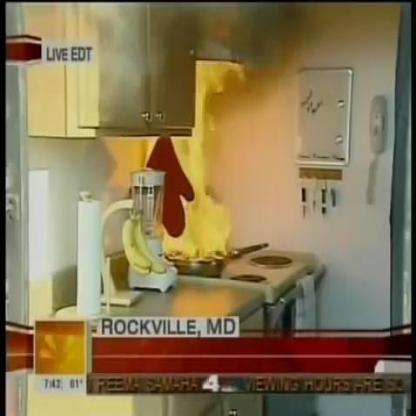fire: (162, 127, 237, 267)
